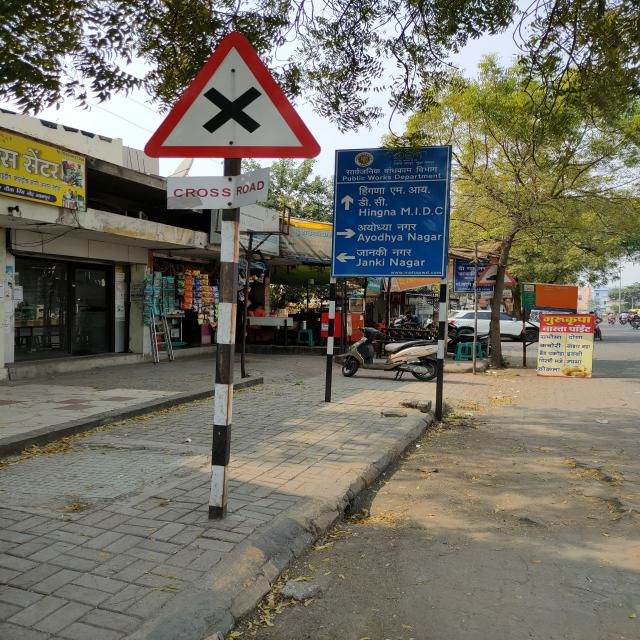CROSS_ROAD: (140, 30, 322, 163)
